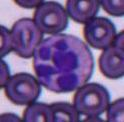N: (33, 34, 93, 92)
